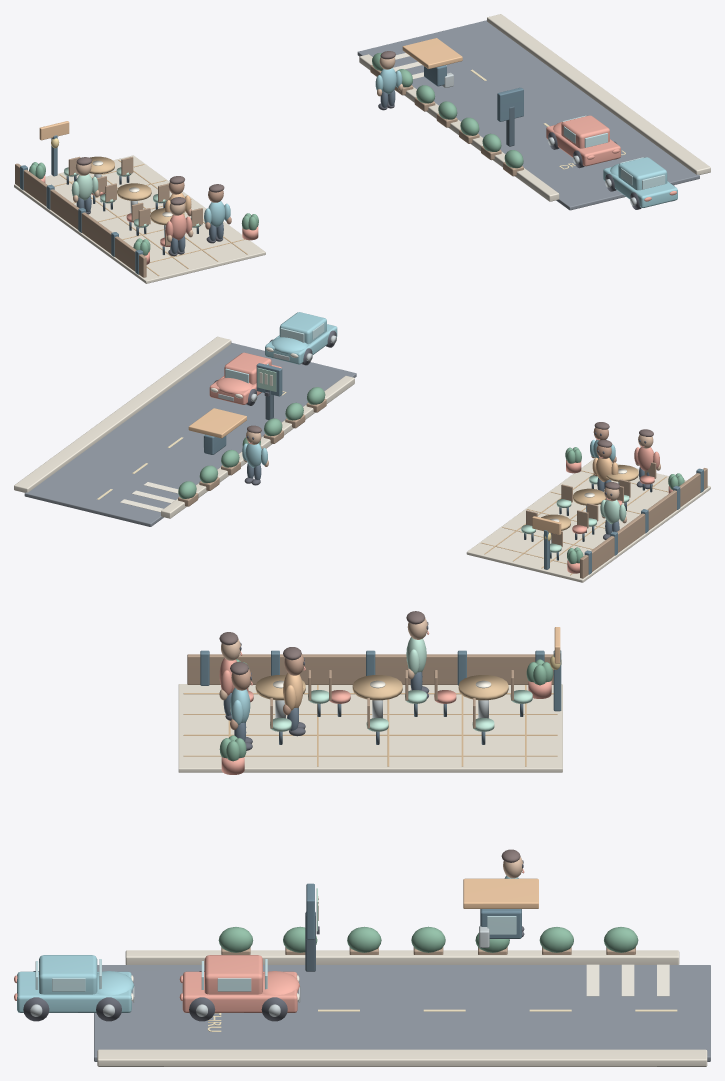
Rendered from panic_district.glb.
The picture shows the model from 3 angles, top to bottom: view 1: azimuth 30°, elevation 25°; view 2: azimuth 150°, elevation 25°; view 3: azimuth 270°, elevation 25°; orthographic projection. The views are drawn at different scales.
Parts seen in each view (by area): view 1: RIBBED DRIVE-THRU ASPHALT, patio paving stone, right street sidewalk, patio shaded fence, food truck service-side raised curb, Drive-thru orange awning, ANIM_CAR_0 chassis, ANIM_CAR_1 chassis, ANIM_CAR_1 curved cabin, ANIM_CAR_0 curved cabin, DRIVE-THRU menu tablet, STARTER PATIO TABLE custom timber table top; view 2: RIBBED DRIVE-THRU ASPHALT, patio paving stone, right street sidewalk, patio shaded fence, food truck service-side raised curb, Drive-thru orange awning, ANIM_CAR_1 curved cabin, ANIM_CAR_1 chassis, ANIM_CAR_0 curved cabin, ANIM_CAR_0 chassis; view 3: RIBBED DRIVE-THRU ASPHALT, patio paving stone, right street sidewalk, patio shaded fence, food truck service-side raised curb, Drive-thru orange awning, ANIM_CAR_0 chassis, ANIM_CAR_1 chassis, ANIM_CAR_0 curved cabin, ANIM_CAR_1 curved cabin, STARTER PATIO TABLE custom timber table top, UPGRADED TABLE 0 custom timber table top (+7 smaller).
Part boxes in pixels (x1,y1,x2,y2): RIBBED DRIVE-THRU ASPHALT: (357,20,699,210); patio paving stone: (14,155,265,283); right street sidewalk: (487,14,710,174); patio shaded fence: (15,163,146,277); food truck service-side raised curb: (359,54,559,201); Drive-thru orange awning: (402,38,462,68); ANIM_CAR_0 chassis: (546,125,620,166); ANIM_CAR_1 chassis: (603,167,677,207); ANIM_CAR_1 curved cabin: (618,157,667,190); ANIM_CAR_0 curved cabin: (561,115,609,148); DRIVE-THRU menu tablet: (497,87,523,121); STARTER PATIO TABLE custom timber table top: (117,183,151,200); RIBBED DRIVE-THRU ASPHALT: (24,342,356,526); patio paving stone: (466,458,710,582); right street sidewalk: (14,336,231,492); patio shaded fence: (580,468,707,578); food truck service-side raised curb: (161,376,354,518); Drive-thru orange awning: (188,408,246,438); ANIM_CAR_1 curved cabin: (279,312,326,344); ANIM_CAR_1 chassis: (265,324,337,364); ANIM_CAR_0 curved cabin: (224,352,271,384); ANIM_CAR_0 chassis: (209,364,281,404); RIBBED DRIVE-THRU ASPHALT: (94,965,710,1061); patio paving stone: (178,684,562,772); right street sidewalk: (97,1049,707,1066); patio shaded fence: (187,654,553,684); food truck service-side raised curb: (125,950,679,964); Drive-thru orange awning: (463,878,538,908); ANIM_CAR_0 chassis: (182,971,297,1012); ANIM_CAR_1 chassis: (17,971,131,1012); ANIM_CAR_0 curved cabin: (204,955,262,994); ANIM_CAR_1 curved cabin: (39,955,97,994); STARTER PATIO TABLE custom timber table top: (352,675,402,700); UPGRADED TABLE 0 custom timber table top: (458,675,508,700).
Bounding box in the file's own units: 25.55 × 2.86 × 19.76.
